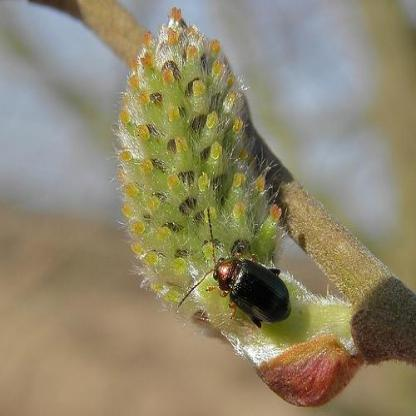beetle: (200, 224, 296, 346)
